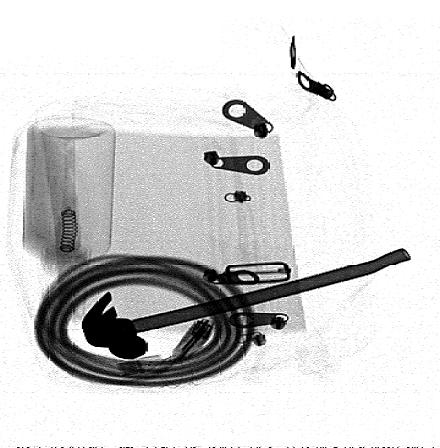Hammer: (81, 247, 411, 359)
